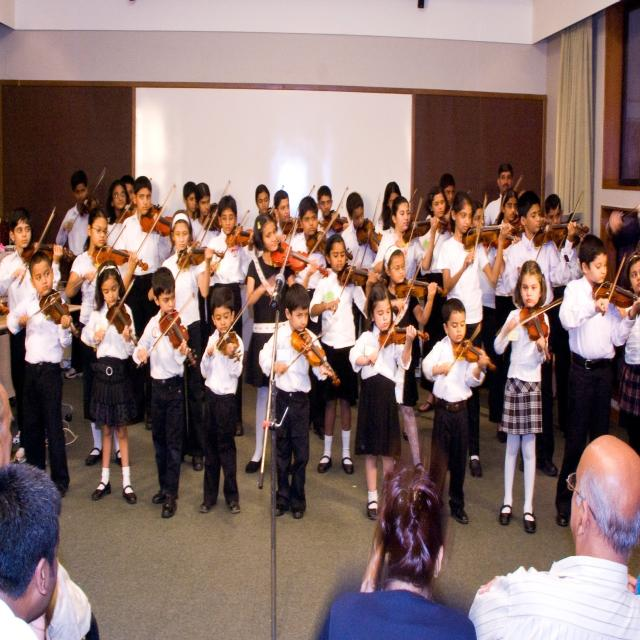violin: (292, 326, 340, 387), (270, 240, 329, 280), (157, 310, 198, 365), (37, 288, 79, 334), (517, 307, 551, 362), (377, 321, 429, 353), (105, 299, 138, 347), (590, 278, 640, 309), (93, 244, 150, 271), (394, 274, 448, 302), (454, 337, 496, 372), (22, 241, 74, 268), (533, 221, 586, 247), (178, 243, 226, 269), (337, 262, 384, 287), (461, 224, 509, 248), (140, 204, 174, 237), (355, 216, 383, 253), (406, 218, 447, 243), (215, 329, 243, 364), (227, 226, 256, 250), (321, 208, 349, 230), (307, 231, 329, 254), (281, 215, 306, 235), (77, 195, 99, 217), (119, 208, 134, 224)
